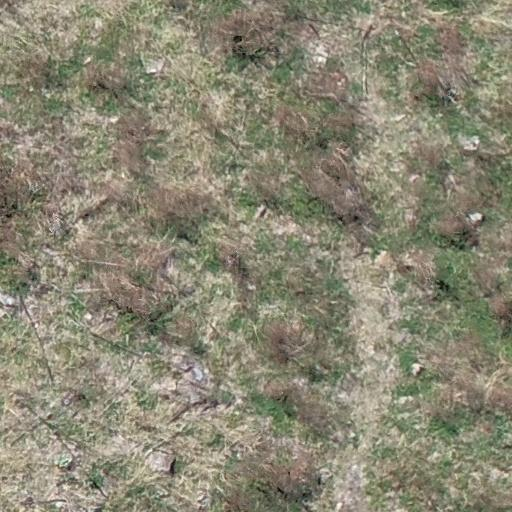stone: (170, 350, 195, 372), (253, 204, 270, 226), (158, 450, 174, 473), (62, 384, 81, 402), (142, 58, 162, 75), (461, 136, 479, 154), (464, 210, 483, 225), (0, 298, 18, 313), (55, 457, 73, 470), (413, 360, 422, 380), (194, 364, 204, 380), (319, 468, 331, 480), (82, 314, 96, 324)
